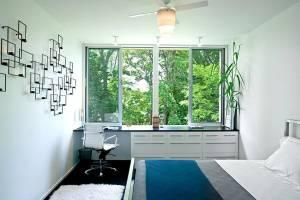window: (84, 45, 226, 129)
